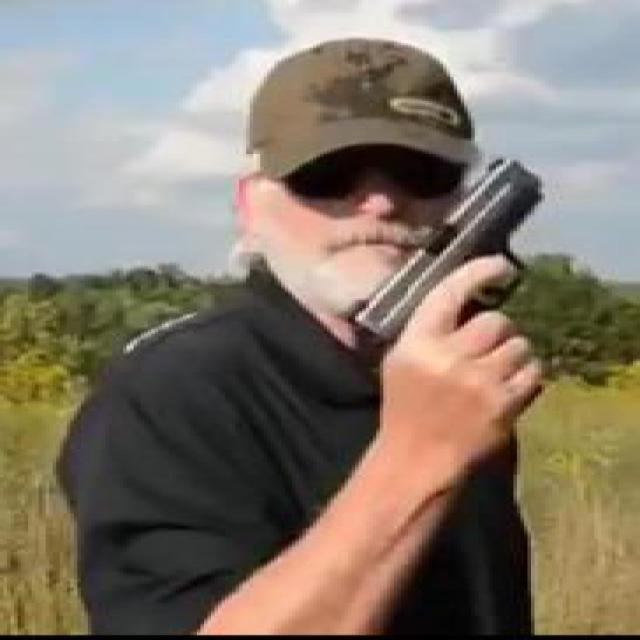weapon: (350, 154, 546, 353)
